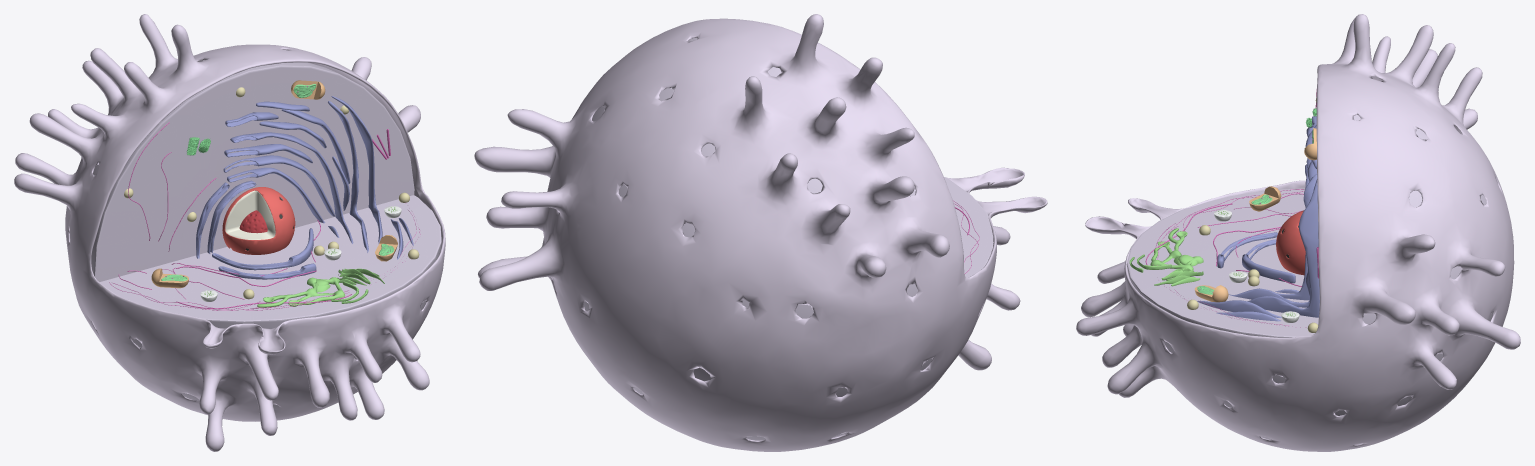
3 views of the same model, side by side, from view 1: azimuth 30°, elevation 25°; view 2: azimuth 150°, elevation 25°; view 3: azimuth 270°, elevation 25° (orthographic). The views are drawn at different scales.
Parts seen in each view (by area): view 1: 000_golgiApparatus; view 2: 000_golgiApparatus; view 3: 000_golgiApparatus.
Boxes of the visible parts, left/top/right/bottom form: 000_golgiApparatus: left=14, top=14, right=445, bottom=451; 000_golgiApparatus: left=474, top=14, right=1047, bottom=451; 000_golgiApparatus: left=1076, top=14, right=1520, bottom=451.
Size of the model in its own units: 129 by 116 by 120.
Materials: 1 (1 with a texture image).
